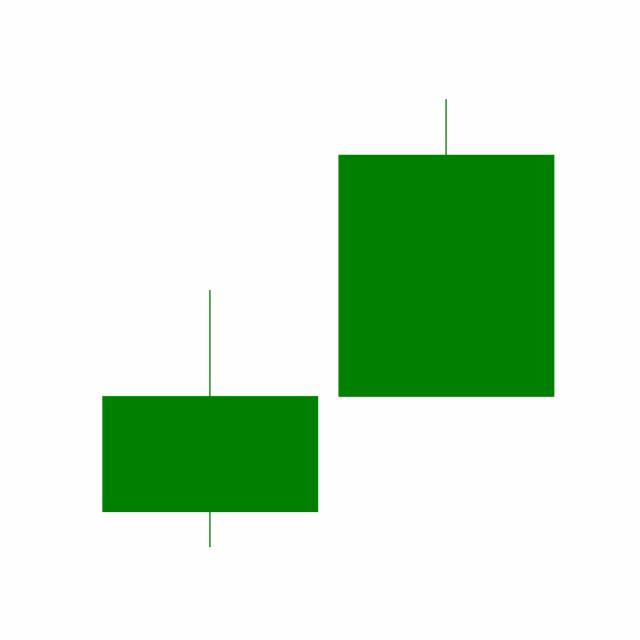Marubozu: (328, 96, 566, 401)
